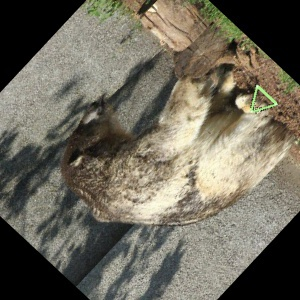triangle: (249, 83, 280, 114)
